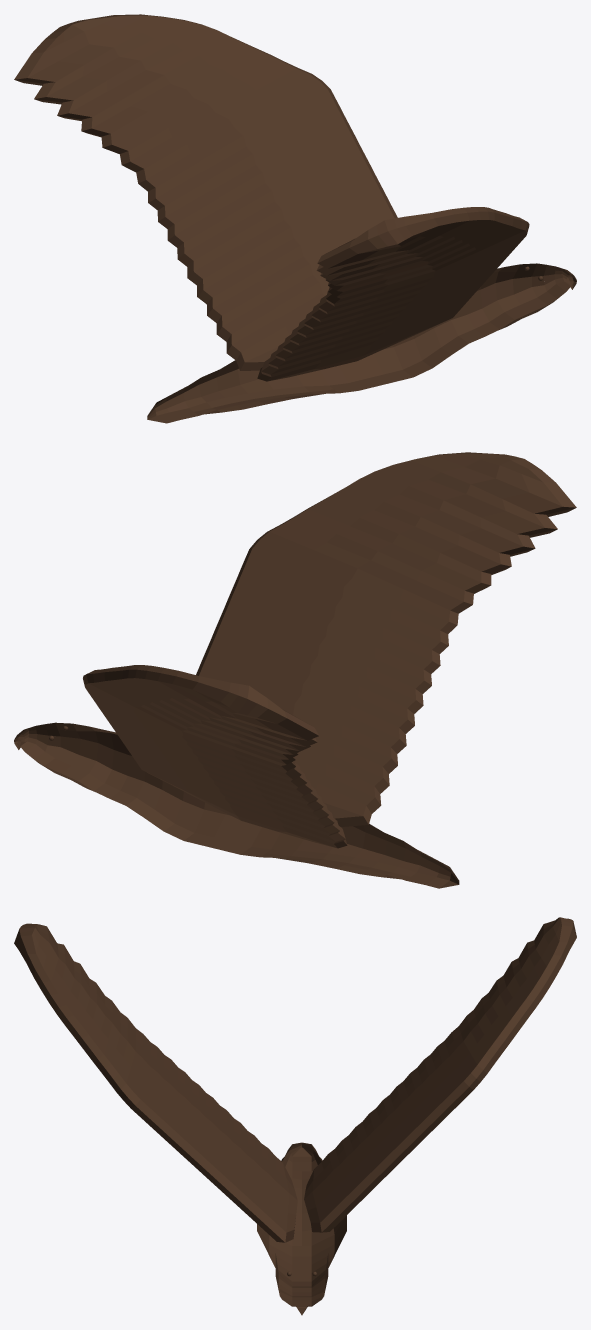
The model's file is Low-poly_Eagle.glb.
The picture shows the model from 3 angles, top to bottom: view 1: azimuth 30°, elevation 25°; view 2: azimuth 150°, elevation 25°; view 3: azimuth 270°, elevation 25°; orthographic projection. The views are drawn at different scales.
Parts seen in each view (by area): view 1: Plane.002_0, Plane.001_0, Plane_1, Plane_0, Plane_2; view 2: Plane.001_0, Plane.002_0, Plane_1, Plane_0, Plane_2; view 3: Plane.001_0, Plane.002_0, Plane_0, Plane_1.
Part boxes in pixels (left/top/right/bottom): Plane.002_0: left=14, top=14, right=397, bottom=370; Plane.001_0: left=257, top=207, right=529, bottom=381; Plane_1: left=147, top=263, right=556, bottom=423; Plane_0: left=237, top=326, right=451, bottom=404; Plane_2: left=543, top=265, right=576, bottom=298; Plane.001_0: left=196, top=452, right=576, bottom=826; Plane.002_0: left=83, top=665, right=347, bottom=848; Plane_1: left=34, top=722, right=459, bottom=888; Plane_0: left=144, top=781, right=365, bottom=868; Plane_2: left=14, top=724, right=48, bottom=759; Plane.001_0: left=14, top=923, right=297, bottom=1242; Plane.002_0: left=304, top=917, right=576, bottom=1232; Plane_0: left=257, top=1199, right=346, bottom=1286; Plane_1: left=275, top=1142, right=328, bottom=1306.
Bounding box in the file's own units: 4.71 × 3.14 × 5.76.
